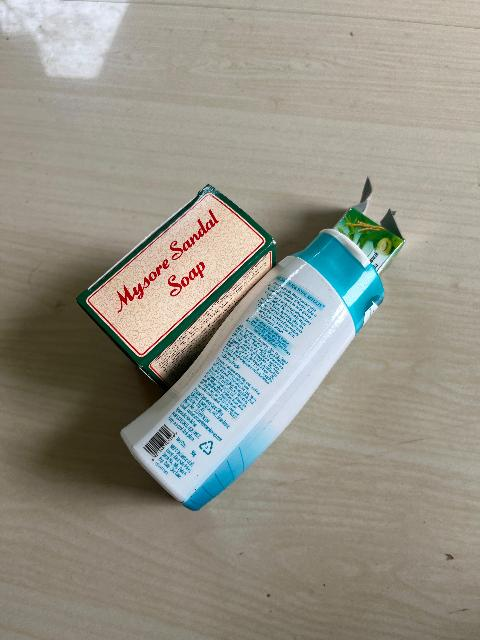boroplus: (169, 259, 370, 504)
mysore sandal soap: (62, 203, 275, 321)
